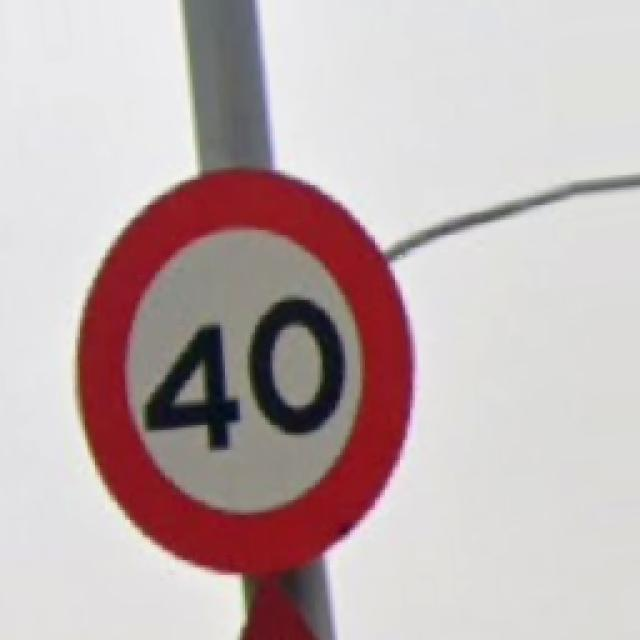Speed Limit -40-: (80, 170, 410, 572)
